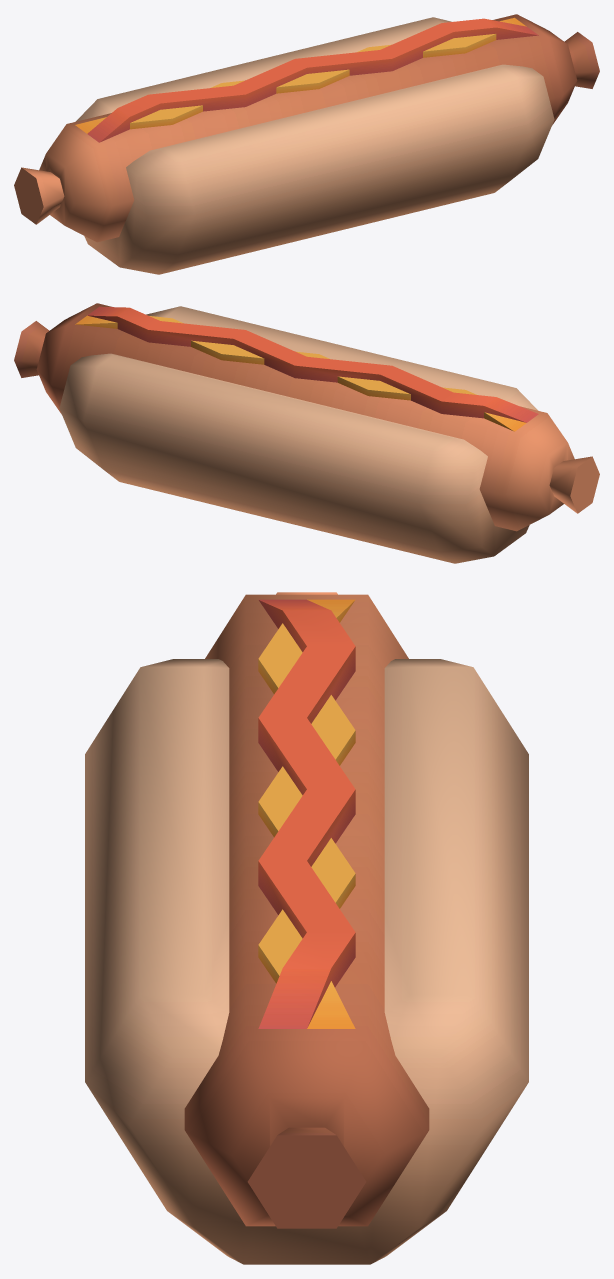
The model's file is food.hot_dog.glb.
The picture shows the model from 3 angles, top to bottom: view 1: azimuth 30°, elevation 25°; view 2: azimuth 150°, elevation 25°; view 3: azimuth 270°, elevation 25°; orthographic projection. The views are drawn at different scales.
Parts seen in each view (by area): view 1: hot-dog, sausage, sauce; view 2: hot-dog, sausage, sauce; view 3: hot-dog, sausage, sauce.
Part boxes in pixels (left/top/right/bottom): hot-dog: left=75, top=17, right=554, bottom=274; sausage: left=14, top=14, right=599, bottom=242; sauce: left=75, top=17, right=538, bottom=142; hot-dog: left=59, top=306, right=538, bottom=563; sausage: left=14, top=303, right=599, bottom=531; sauce: left=75, top=306, right=538, bottom=431; hot-dog: left=85, top=659, right=528, bottom=1264; sausage: left=184, top=592, right=429, bottom=1228; sauce: left=258, top=599, right=355, bottom=1028.
Size of the model in its own units: 0.174 by 0.0453 by 0.0602.
1 material, 1 textured.
